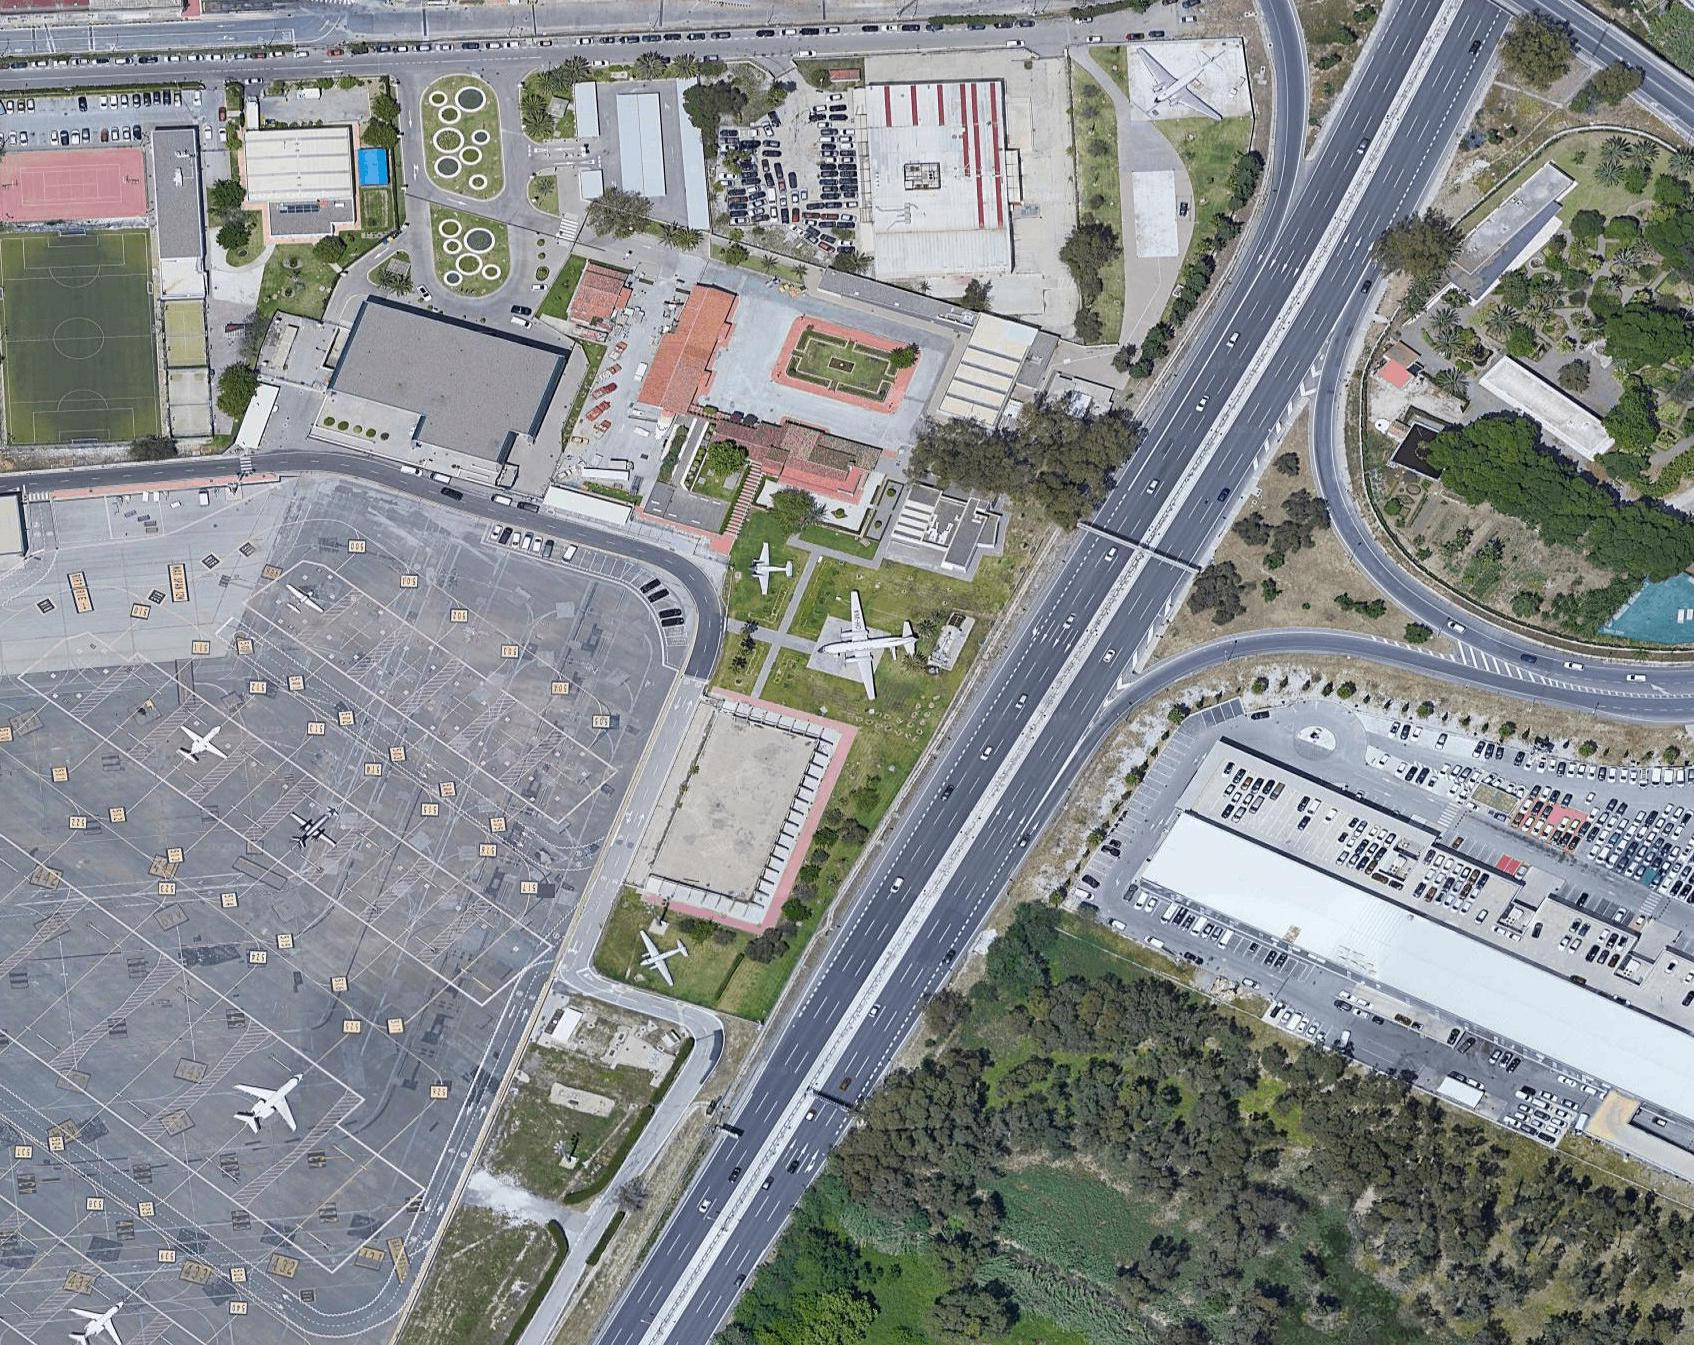plane: (799, 580, 929, 718), (210, 1042, 324, 1157), (1115, 33, 1251, 122), (613, 906, 701, 1003), (276, 791, 346, 866), (60, 1284, 133, 1345), (166, 711, 234, 776), (737, 534, 792, 595), (274, 573, 326, 622)
soccer-ball-field: (7, 230, 158, 437)
swimming-pool: (352, 142, 385, 187)
